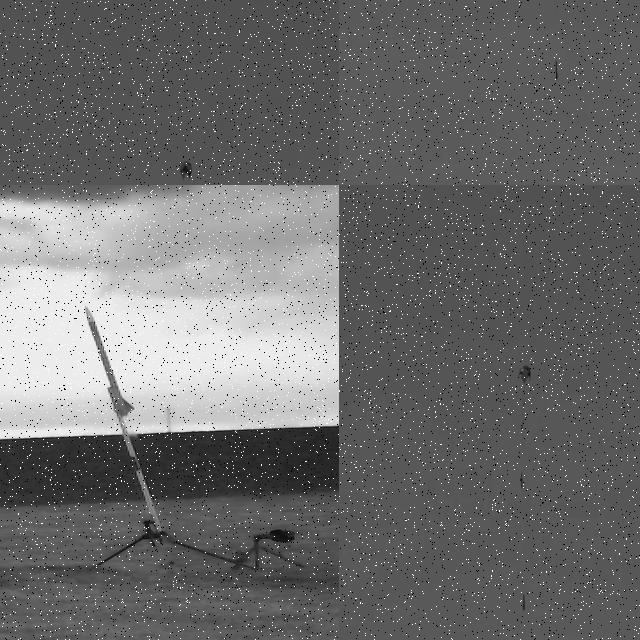Rocket: (84, 305, 136, 417), (555, 60, 559, 80), (522, 594, 526, 611)
